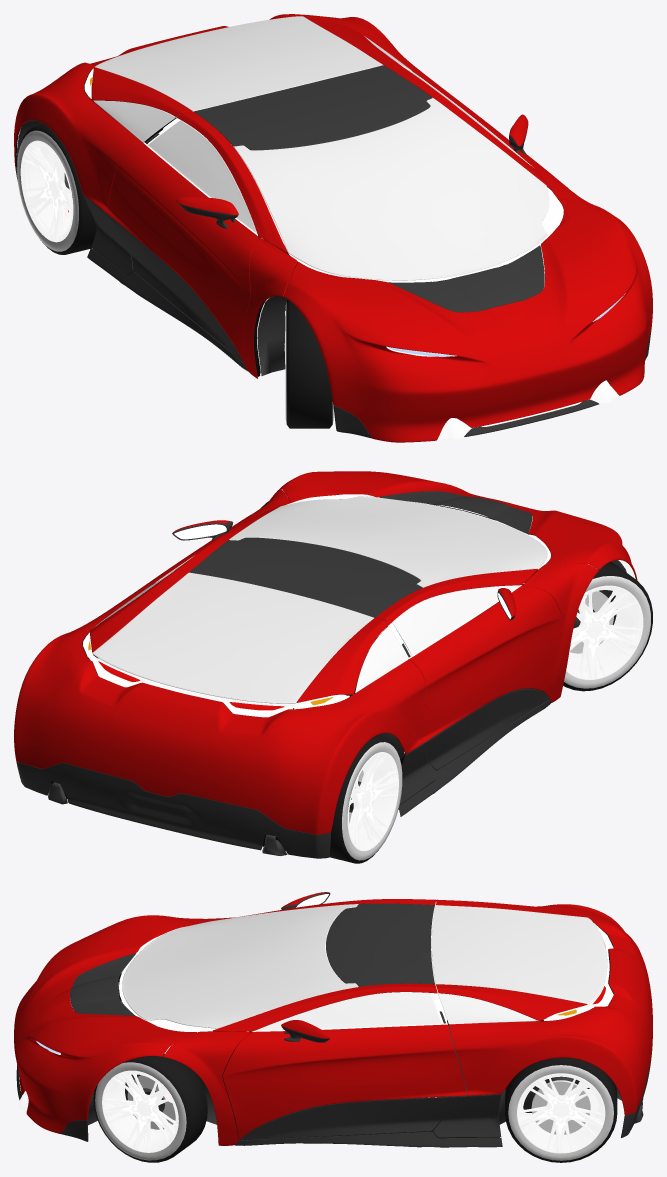
The model's file is car.glb.
The picture shows the model from 3 angles, top to bottom: view 1: azimuth 30°, elevation 25°; view 2: azimuth 150°, elevation 25°; view 3: azimuth 270°, elevation 25°; orthographic projection. The views are drawn at different scales.
Visible parts, largest first — view 1: BodyRearPanelsColor1, BodyWindshield, BodyRoofPanel, BodyWindowsRearSides, BodyHoodTopgrill, WheelFrontR, BodyDoorRWindow, BodyDoorRColor2, WheelRearRRim, WheelRearR, BodyUnderside, BodyWindshieldGasket (+2 smaller); view 2: BodyRearPanelsColor1, BodyWindowsRearSides, BodyRoofPanel, BodyWindshield, WheelFrontRRim, BodyDoorRColor2, WheelRearRRim, BodyDoorRWindow, WheelRearR, WheelFrontR, BodyHoodTopgrill, InteriorRearHatch (+2 smaller); view 3: BodyRearPanelsColor1, BodyWindshield, BodyWindowsRearSides, BodyRoofPanel, BodyDoorLColor2, WheelFrontL, WheelRearLRim, WheelFrontLRim, WheelRearL, BodyDoorLWindow, BodyHoodTopgrill, BodyWindshieldGasket (+7 smaller).
Part boxes in pixels (x1,y1,x2,y2): BodyRearPanelsColor1: (14, 14, 652, 442); BodyWindshield: (234, 98, 549, 280); BodyRoofPanel: (15, 65, 651, 438); BodyWindowsRearSides: (94, 16, 412, 142); BodyHoodTopgrill: (388, 245, 544, 312); WheelFrontR: (285, 299, 333, 428); BodyDoorRWindow: (148, 120, 257, 234); BodyDoorRColor2: (104, 133, 243, 362); WheelRearRRim: (20, 140, 73, 242); WheelRearR: (17, 124, 96, 254); BodyUnderside: (16, 120, 287, 375); BodyWindshieldGasket: (16, 97, 563, 376); BodyRearPanelsColor1: (14, 471, 637, 834); BodyWindowsRearSides: (92, 572, 408, 703); BodyRoofPanel: (16, 537, 550, 858); BodyWindshield: (229, 496, 547, 587); WheelFrontRRim: (566, 585, 643, 679); BodyDoorRColor2: (402, 590, 549, 769); WheelRearRRim: (347, 752, 398, 850); BodyDoorRWindow: (392, 585, 519, 655); WheelRearR: (329, 736, 402, 863); WheelFrontR: (563, 562, 652, 691); BodyHoodTopgrill: (379, 491, 532, 533); InteriorRearHatch: (83, 628, 385, 717); BodyRearPanelsColor1: (14, 899, 652, 1145); BodyWindshield: (122, 904, 358, 1028); BodyWindowsRearSides: (431, 905, 607, 1024); BodyRoofPanel: (16, 903, 652, 1147); BodyDoorLColor2: (240, 1011, 467, 1140); WheelFrontL: (93, 1054, 207, 1162); WheelRearLRim: (517, 1073, 605, 1153); WheelFrontLRim: (102, 1070, 178, 1152); WheelRearL: (505, 1057, 617, 1162); BodyDoorLWindow: (255, 992, 441, 1030); BodyHoodTopgrill: (70, 953, 136, 1016); BodyWindshieldGasket: (118, 901, 613, 1144).
Size of the model in its own units: 2.54 by 1.15 by 4.36.
